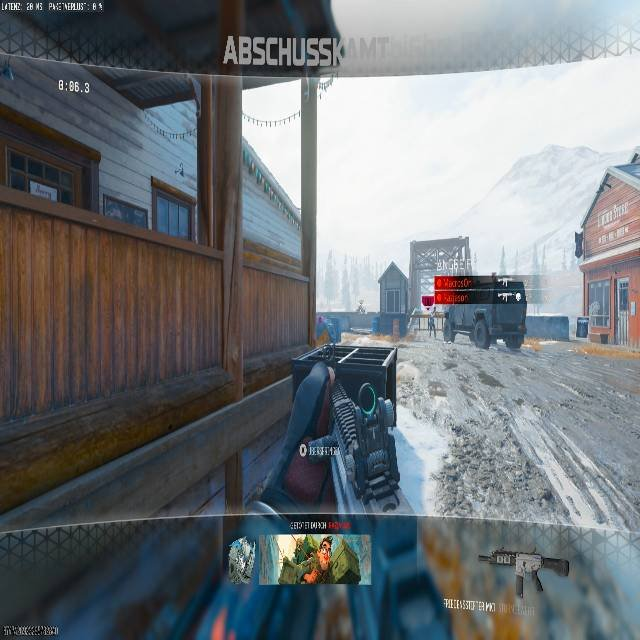player: (357, 300, 367, 315)
